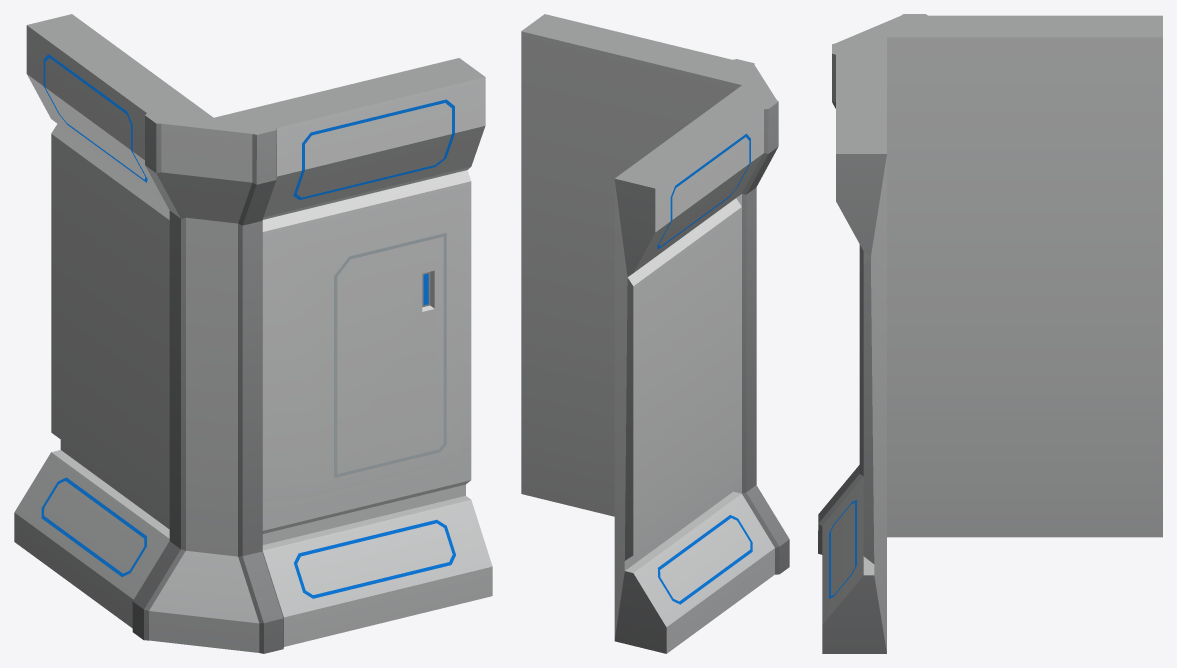
Rendered from wall_straight_1x1.glb.
3 views of the same model, side by side, from view 1: azimuth 30°, elevation 25°; view 2: azimuth 150°, elevation 25°; view 3: azimuth 270°, elevation 25° (orthographic). The views are drawn at different scales.
Visible parts, largest first — view 1: Wall_type_A_001; view 2: Wall_type_A_001; view 3: Wall_type_A_001.
Part boxes in pixels (<box>): Wall_type_A_001: <box>14,14,492,653</box>; Wall_type_A_001: <box>521,14,789,653</box>; Wall_type_A_001: <box>818,14,1162,653</box>.
Bounding box in the file's own units: 2.5 × 4 × 2.5.
2 materials, 2 textured.
